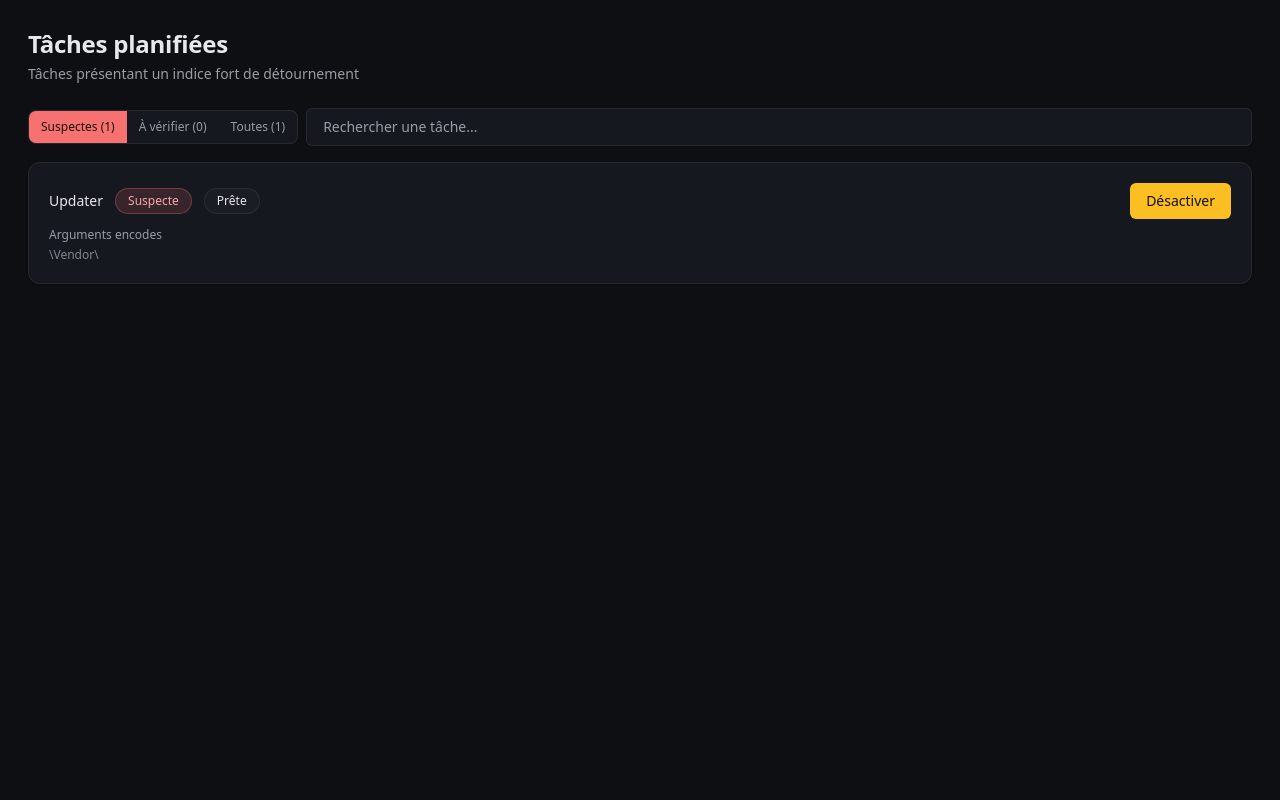
Scenario: TasksPage badge de la barre laterale › ne le demande pas quand la desactivation echoue
Click the button "Désactiver" at x=1181, y=201, box [1130, 183, 1231, 219]
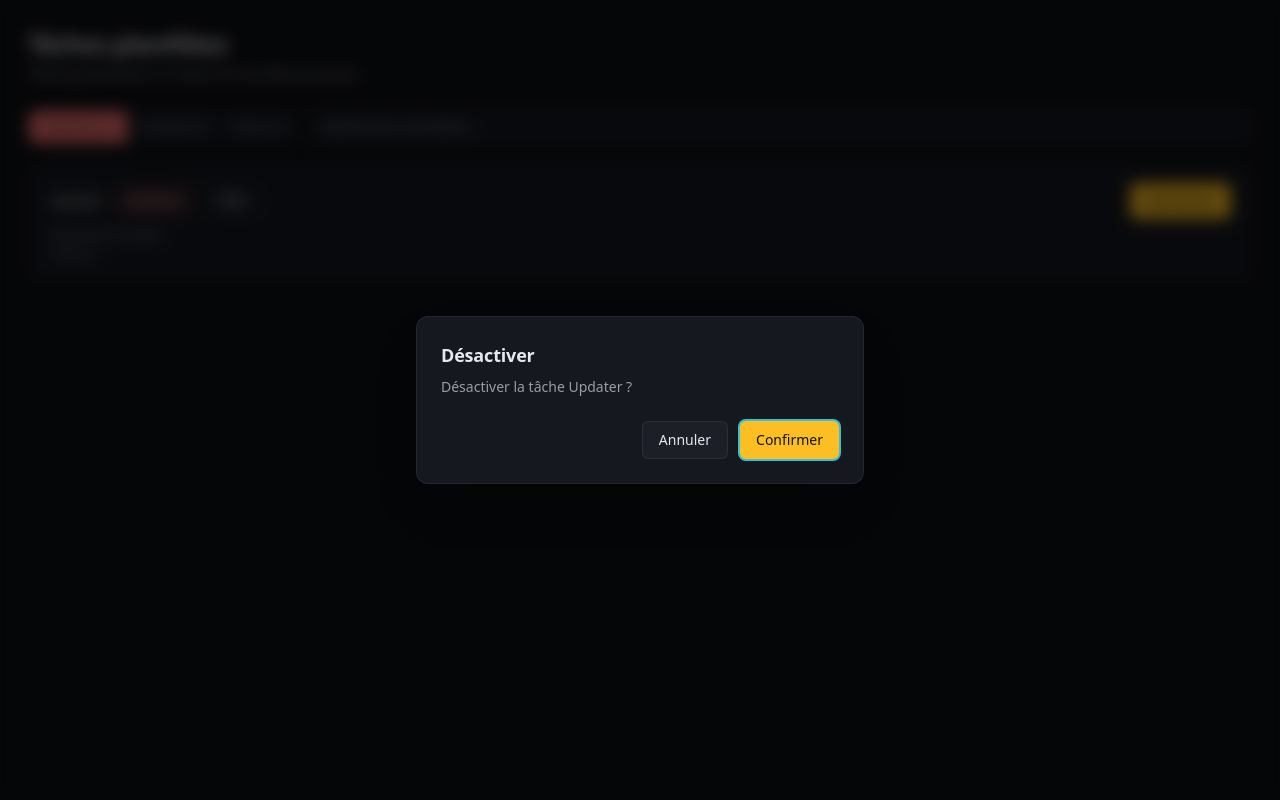
Click the button "Confirmer" at x=790, y=440, box [740, 421, 839, 459]
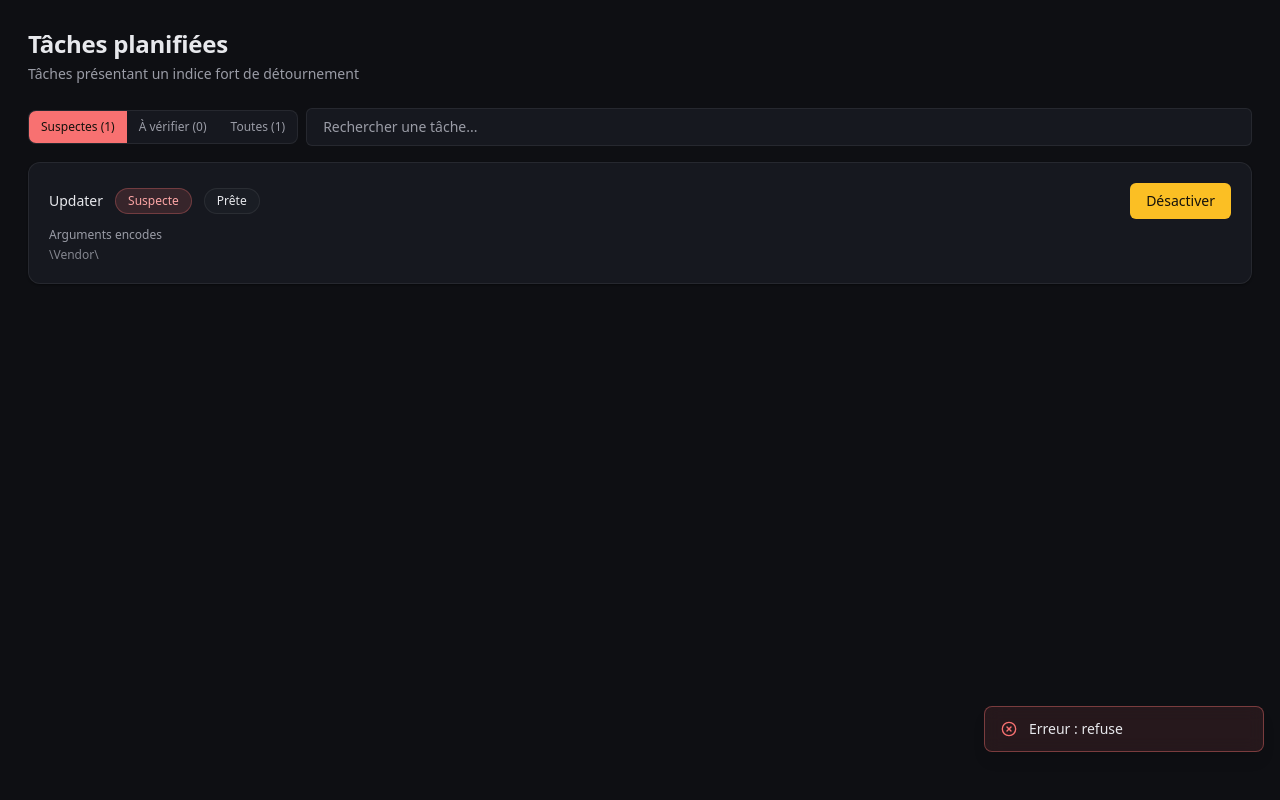
Now the text "Erreur : refuse" is shown, box [1029, 719, 1123, 738]
